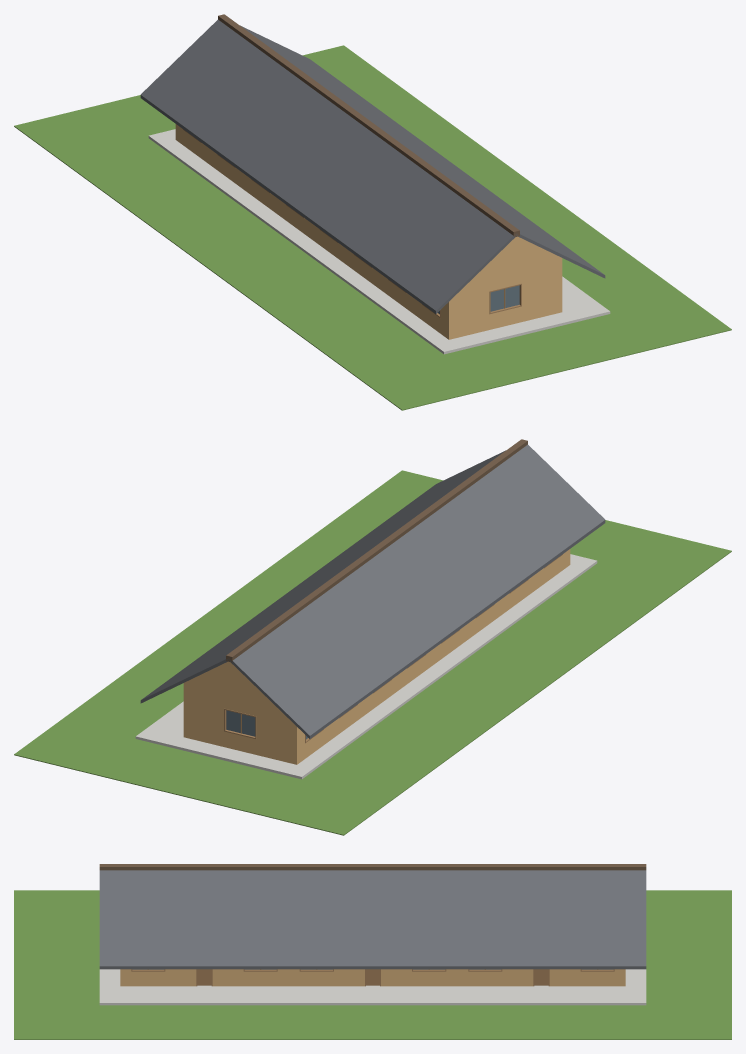
Rendered from bienestar.glb.
The picture shows the model from 3 angles, top to bottom: view 1: azimuth 30°, elevation 25°; view 2: azimuth 150°, elevation 25°; view 3: azimuth 270°, elevation 25°; orthographic projection. The views are drawn at different scales.
Visible parts, largest first — view 1: Bienestar; view 2: Bienestar; view 3: Bienestar.
Part boxes in pixels (bbox=[...]): Bienestar: bbox=[14, 14, 731, 410]; Bienestar: bbox=[14, 439, 731, 835]; Bienestar: bbox=[14, 864, 731, 1039].
Bounding box in the file's own units: 20.56 × 6.33 × 41.91.
